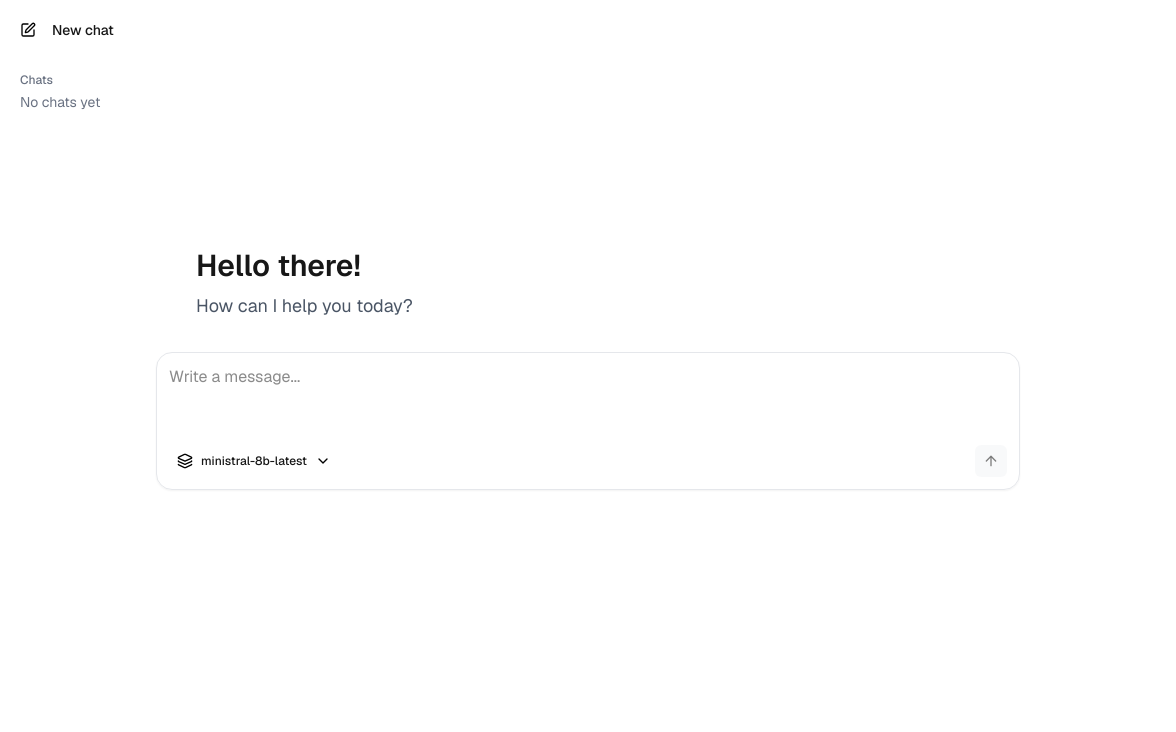
Test: NewChat › keeps the URL when leaving a new chat before it has been saved
The width and height of the screenshot is (1176, 732).
Type "ping" into the text box with placeholder "Write a message..." at (588, 405), box [169, 365, 1007, 445]
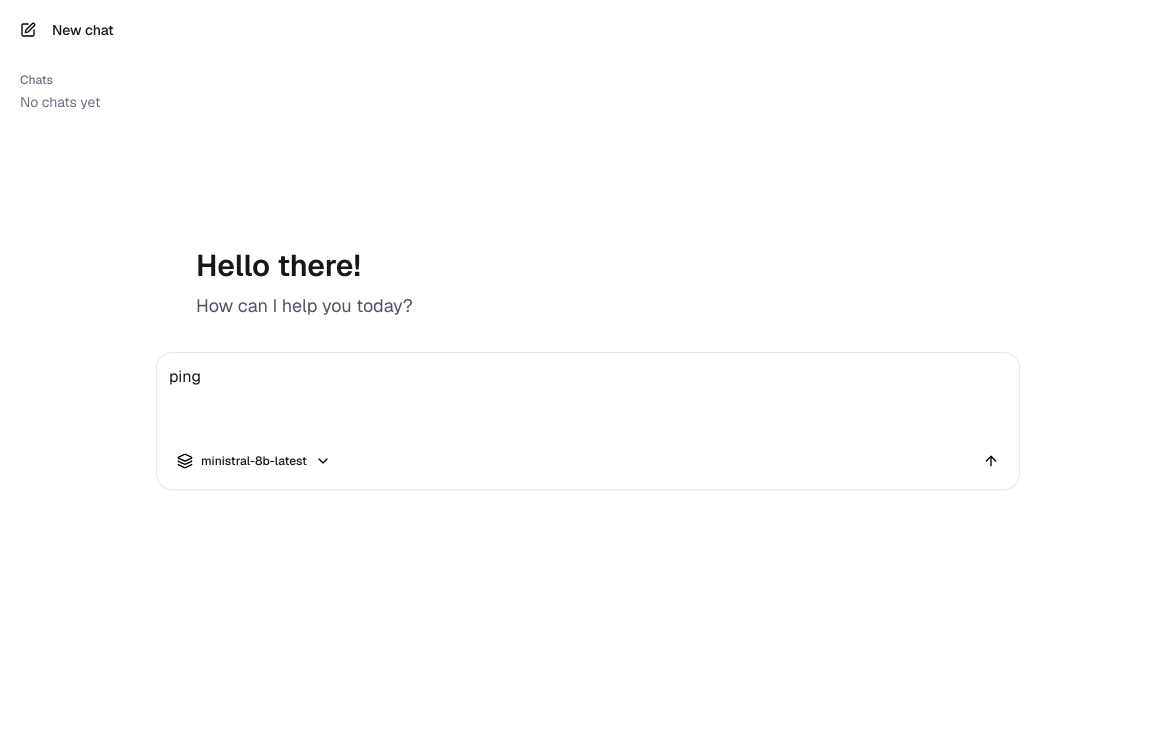
Press Enter in the text box with placeholder "Write a message...", box [169, 365, 1007, 445]
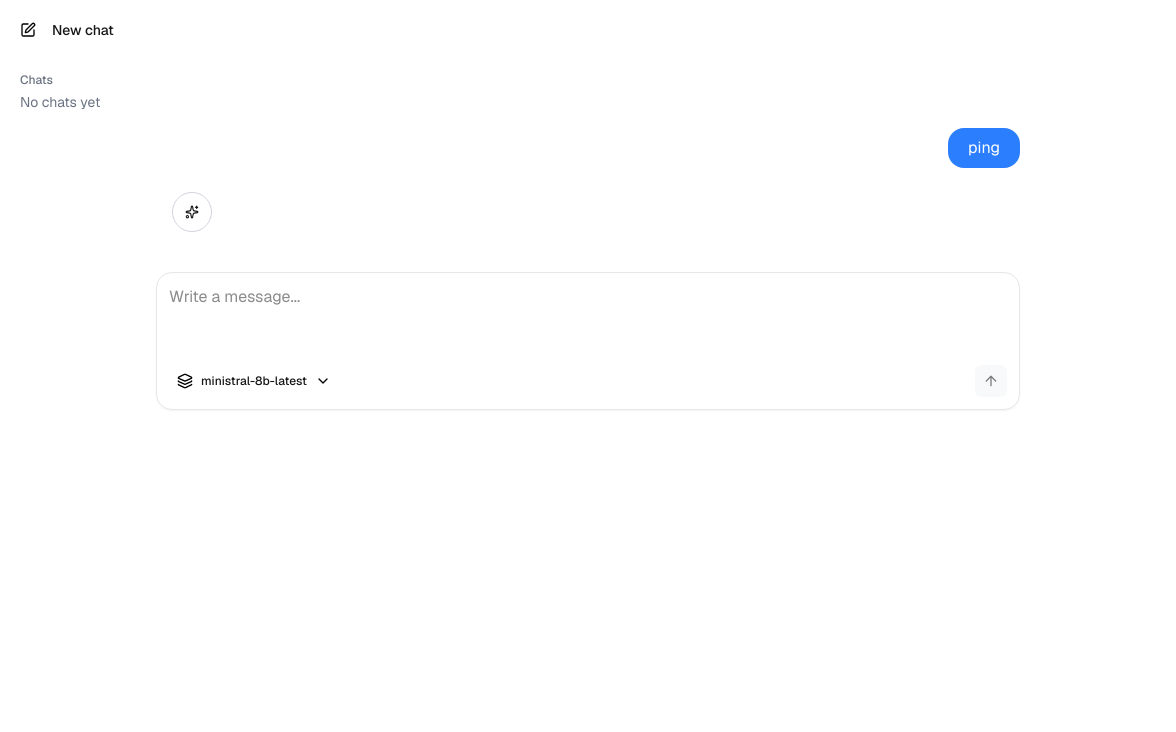
Click the button "New chat" at (83, 30), box [12, 12, 1164, 48]
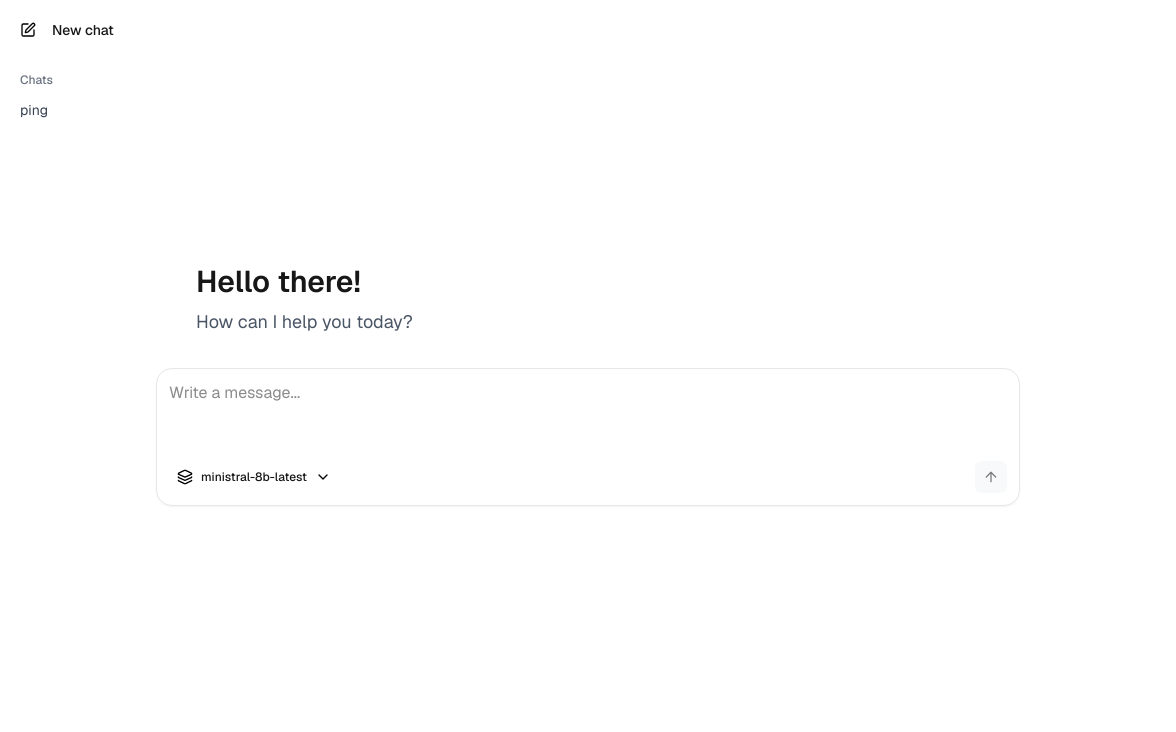
Check: the link reads "ping", box [20, 101, 48, 119]
Check: the heading "Hello there!" is shown, box [196, 262, 361, 301]
